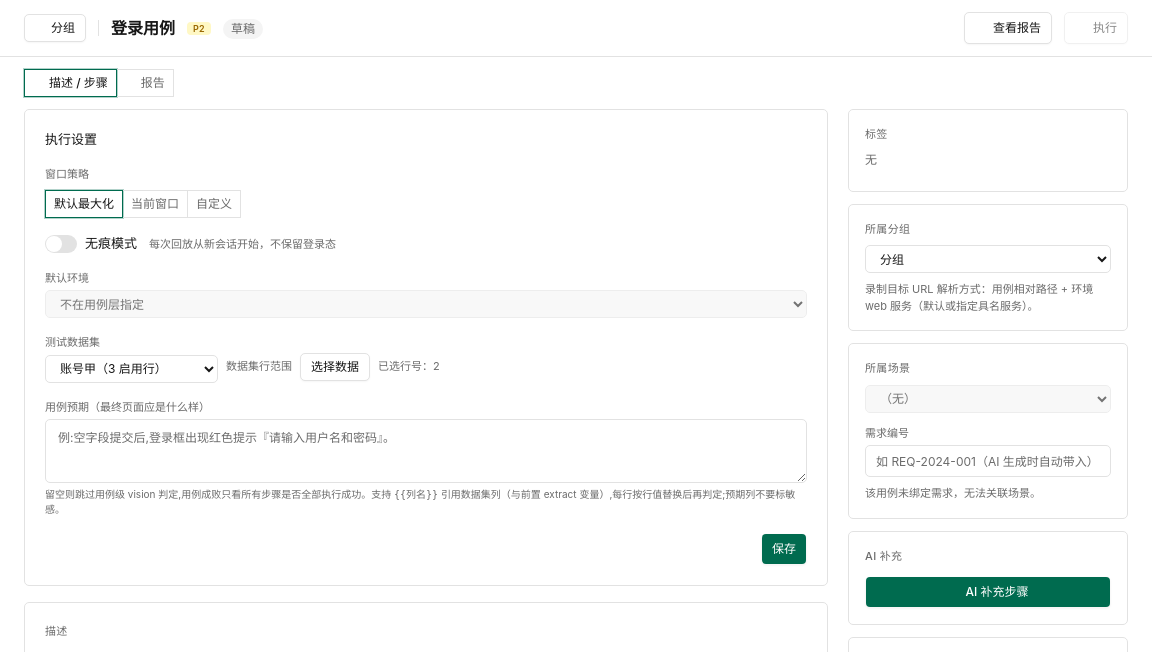
CaseDetail 数据集行选择 › 换数据集 → 清空行选择
This screenshot has width=1152, height=652.
Expected: the text "已选行号：2" is shown, 378,358 -> 440,375
Select "账号乙（2 启用行）" in the dropdown labelled "测试数据集" at x=132, y=368, box 45,354 -> 218,382
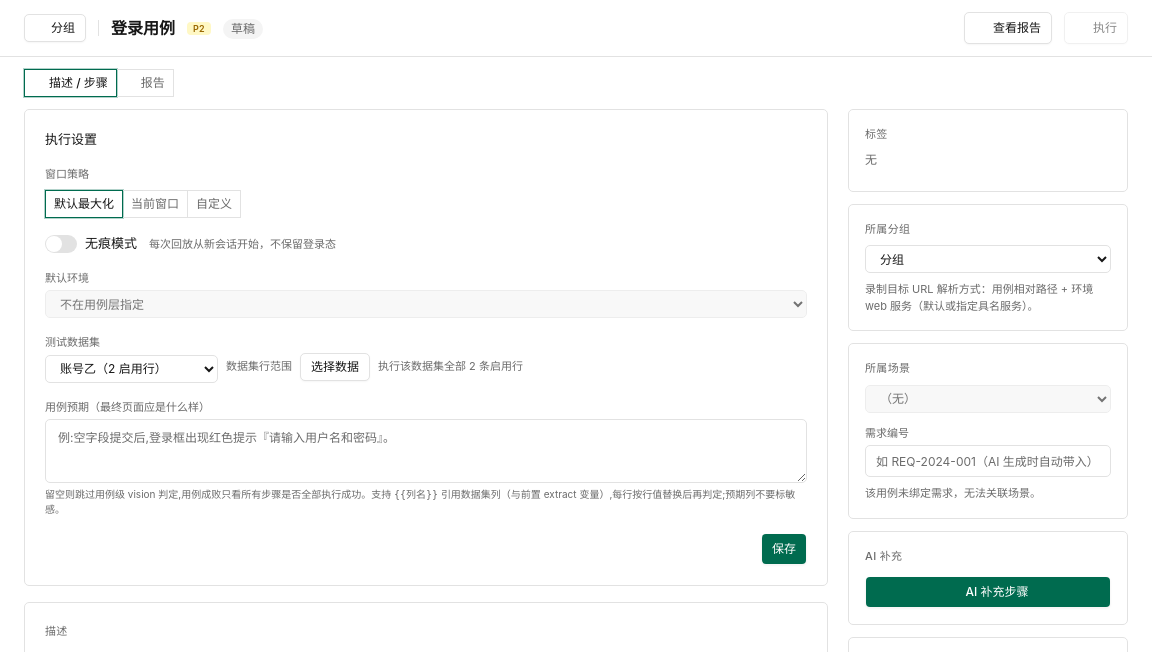
Result: the text "执行该数据集全部 2 条启用行" is shown at 378,358 -> 523,375
